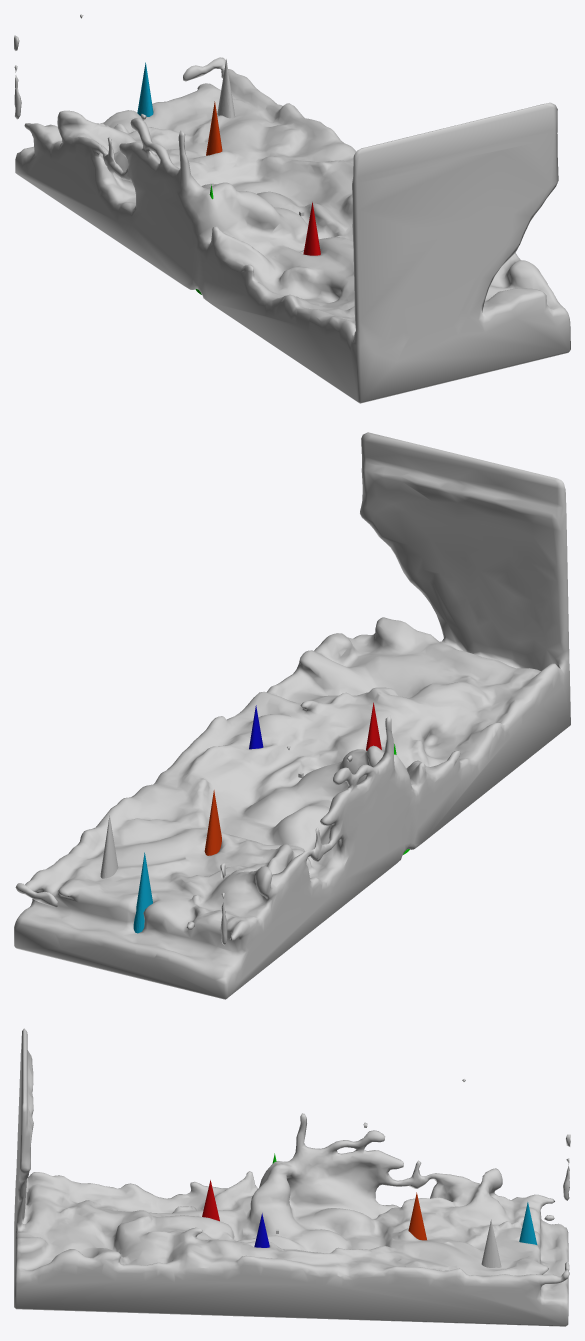
3 renders of one model, top to bottom at view 1: azimuth 30°, elevation 25°; view 2: azimuth 150°, elevation 25°; view 3: azimuth 270°, elevation 25°, orthographic. The views are drawn at different scales.
Parts seen in each view (by area): view 1: Liquid_Domain, 円錐, 円錐.001, 円錐.005, 円錐.004; view 2: Liquid_Domain, 円錐.005; view 3: Liquid_Domain, 円錐, 円錐.004, 円錐.005, 円錐.001.
Boxes of the visible parts, x1,y1,x2,y2 form: Liquid_Domain: (14,14,570,403); 円錐: (217,59,235,118); 円錐.001: (303,202,320,255); 円錐.005: (137,62,153,116); 円錐.004: (206,101,222,155); Liquid_Domain: (14,432,570,999); 円錐.005: (133,852,152,933); Liquid_Domain: (14,1028,570,1326); 円錐: (481,1219,501,1267); 円錐.004: (408,1192,426,1240); 円錐.005: (519,1202,537,1244); 円錐.001: (202,1180,219,1221).
Bounding box in the file's own units: 129 × 158 × 363.
